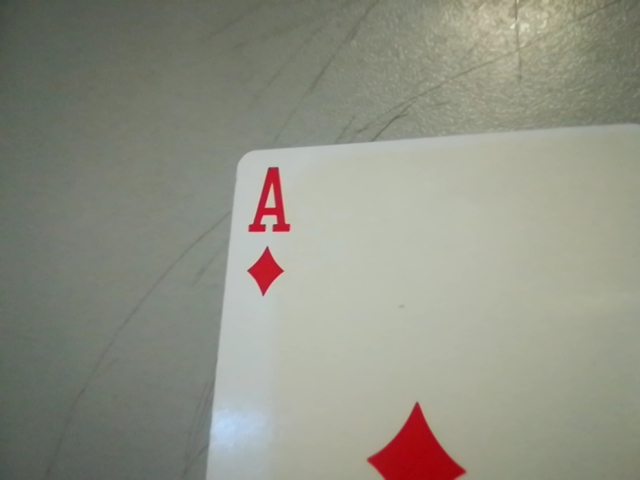fk a: (236, 160, 302, 299)
